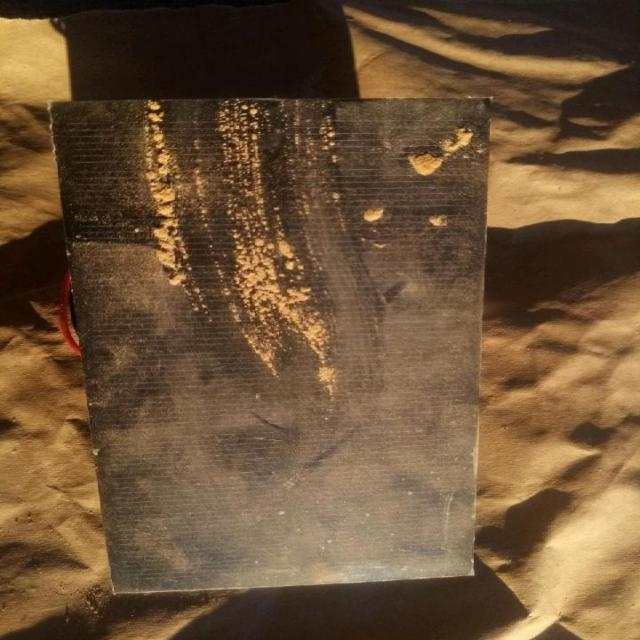faulty: (62, 89, 487, 594)
